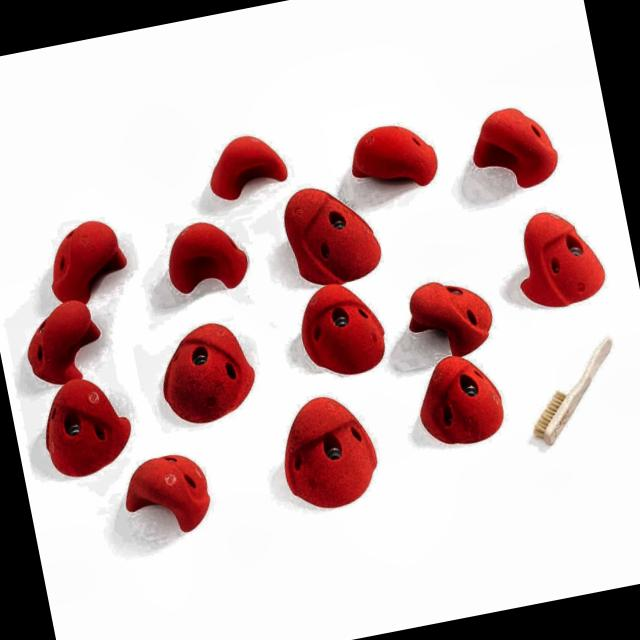Hold: (266, 388, 384, 520), (152, 314, 268, 433), (280, 176, 386, 289), (508, 204, 612, 313), (462, 91, 568, 196), (39, 376, 139, 481), (410, 350, 507, 452), (398, 270, 500, 366), (296, 277, 392, 378), (120, 446, 217, 540), (39, 217, 133, 308), (20, 299, 111, 392), (342, 114, 439, 200), (161, 216, 256, 303), (200, 129, 294, 203)
